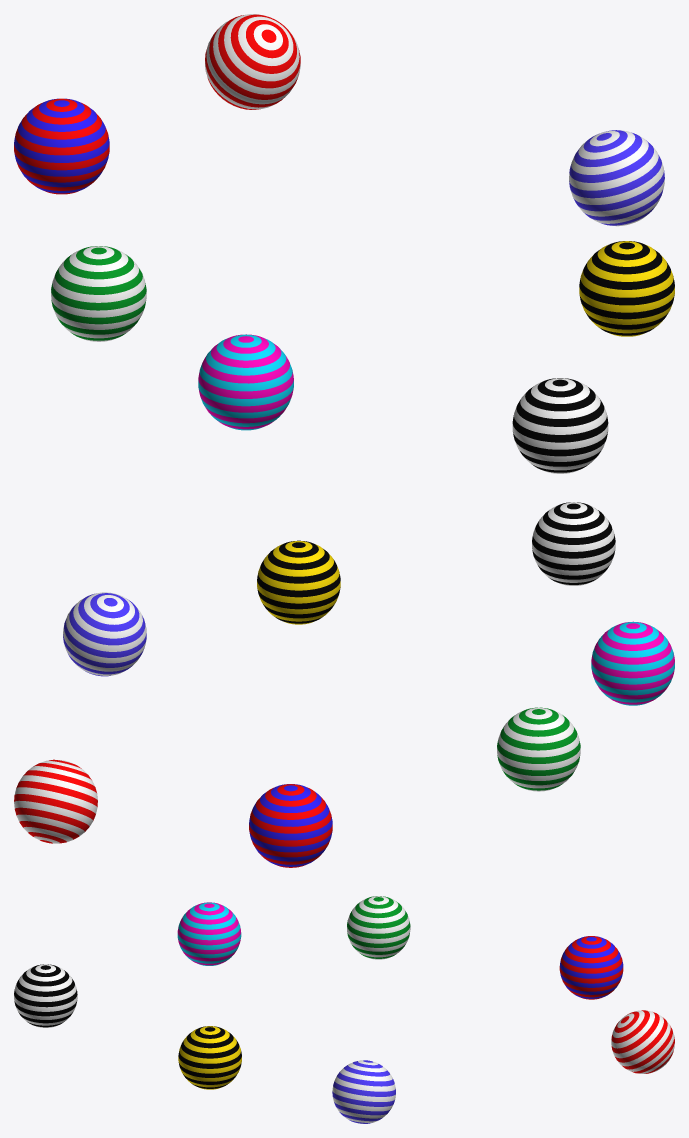
The model's file is CUBE EATER NEW.fbx.
3 renders of one model, top to bottom at view 1: azimuth 30°, elevation 25°; view 2: azimuth 150°, elevation 25°; view 3: azimuth 270°, elevation 25°, orthographic. The views are drawn at different scales.
Parts seen in each view (by area): view 1: Sphere.008, Sphere.007, Sphere.010, Sphere.006, Sphere.005, Sphere.013, Sphere.009; view 2: Sphere.009, Sphere.013, Sphere.005, Sphere.007, Sphere.010, Sphere.006, Sphere.008; view 3: Sphere.007, Sphere.010, Sphere.008, Sphere.005, Sphere.009, Sphere.013, Sphere.006.
Part boxes in pixels (x1,y1,x2,y2): Sphere.008: (512, 378, 608, 473); Sphere.007: (14, 98, 109, 194); Sphere.010: (198, 334, 293, 430); Sphere.006: (569, 130, 664, 226); Sphere.005: (579, 241, 674, 336); Sphere.013: (51, 246, 146, 341); Sphere.009: (205, 14, 300, 109); Sphere.009: (14, 759, 97, 843); Sphere.013: (497, 707, 580, 791); Sphere.005: (257, 540, 340, 624); Sphere.007: (249, 784, 332, 867); Sphere.010: (591, 621, 674, 705); Sphere.006: (63, 592, 146, 676); Sphere.008: (532, 502, 615, 585); Sphere.007: (559, 936, 623, 999); Sphere.010: (177, 902, 241, 965); Sphere.008: (14, 964, 77, 1027); Sphere.005: (178, 1026, 241, 1089); Sphere.009: (611, 1010, 674, 1073); Sphere.013: (347, 896, 410, 959); Sphere.006: (332, 1060, 395, 1123).
Size of the model in its own units: 1063 by 150 by 1552.
